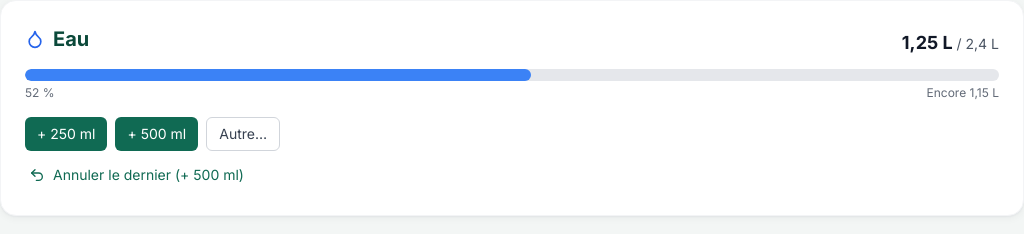
Scenario: WaterCard › annule la dernière prise
Expected: the text "1,25 L" is shown, [902,32,953,53]
Click the button "Annuler le dernier (+ 500 ml)".
click(136, 175)  # box [17,159,256,191]
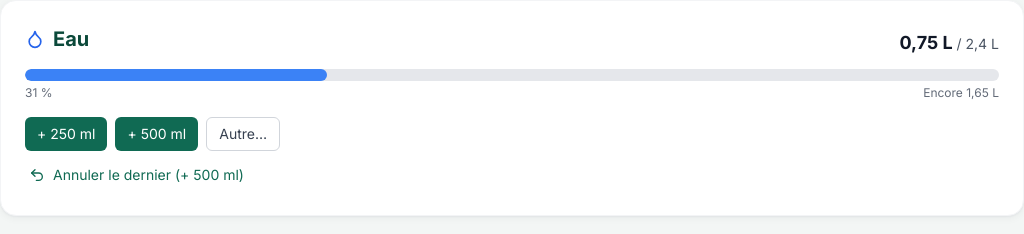
Expected: the text "0,75 L" is shown, [900,32,953,53]
